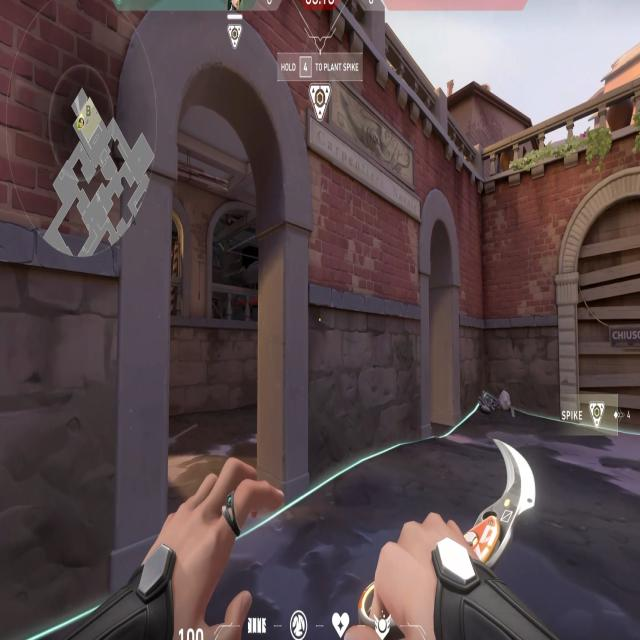B_Boathouse: (115, 1, 320, 538), (419, 177, 467, 440)
